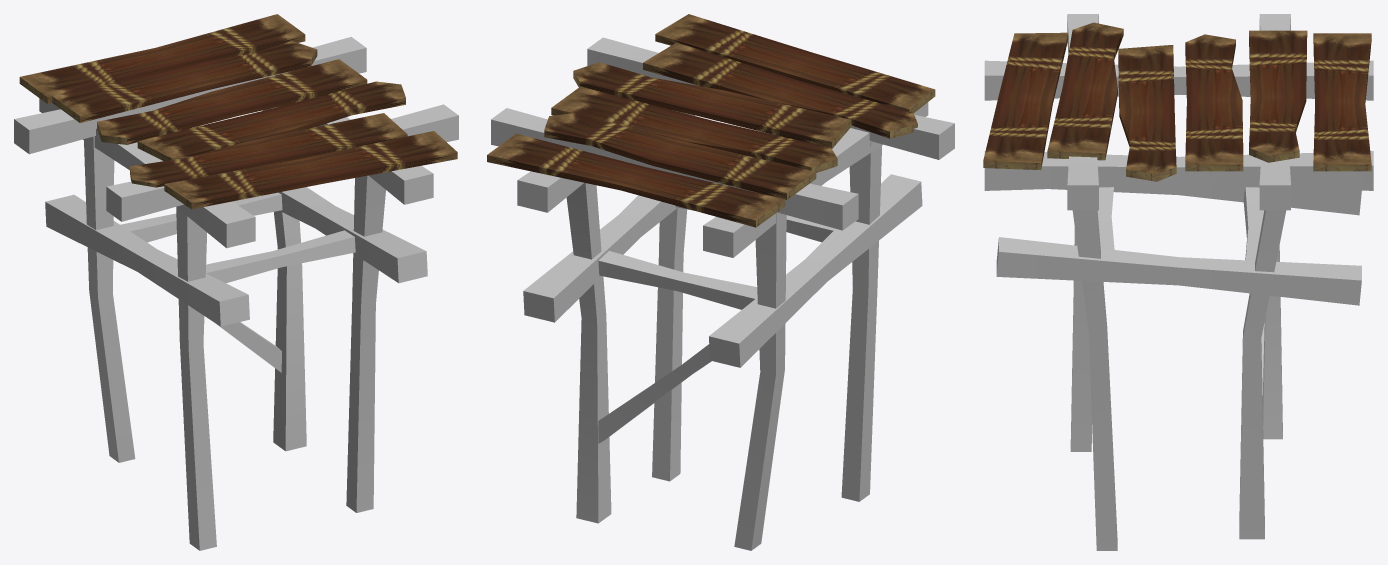
The model's file is environment_common_zhandao_001_b.FBX.
The picture shows the model from 3 angles, left to right: view 1: azimuth 30°, elevation 25°; view 2: azimuth 150°, elevation 25°; view 3: azimuth 270°, elevation 25°; orthographic projection. The views are drawn at different scales.
Visible parts, largest first — view 1: environment_common_zhandao_001_b2, environment_common_zhandao_001_b1; view 2: environment_common_zhandao_001_b2, environment_common_zhandao_001_b1; view 3: environment_common_zhandao_001_b2, environment_common_zhandao_001_b1.
Part boxes in pixels (x1,y1,x2,y2): environment_common_zhandao_001_b2: [14, 37, 458, 550]; environment_common_zhandao_001_b1: [19, 14, 457, 209]; environment_common_zhandao_001_b2: [491, 37, 954, 550]; environment_common_zhandao_001_b1: [487, 14, 935, 227]; environment_common_zhandao_001_b2: [984, 14, 1373, 550]; environment_common_zhandao_001_b1: [983, 22, 1371, 181].
Size of the model in its own units: 786 by 875 by 758.
